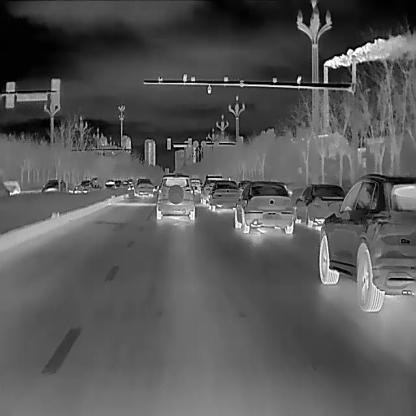car: (318, 171, 415, 312), (233, 177, 294, 233), (293, 182, 345, 227), (154, 172, 196, 221), (207, 178, 240, 210), (199, 173, 223, 204), (132, 176, 154, 198), (40, 176, 66, 194), (1, 178, 22, 196)
